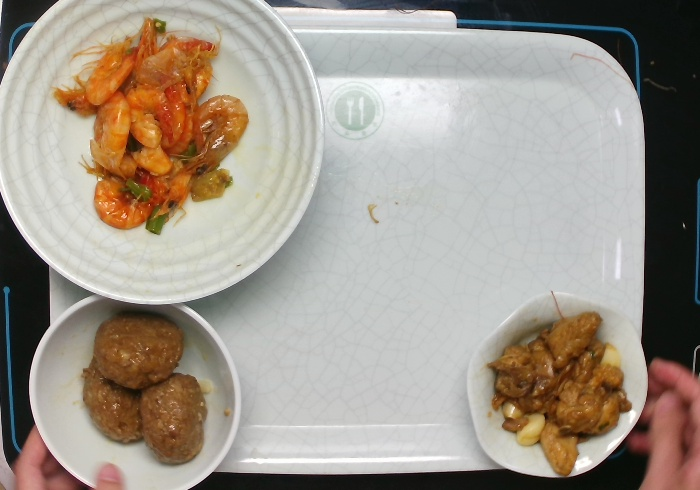JYsf-Da_Tang_Wan: (1, 1, 326, 306)
JYsf-Fan_Wan: (27, 288, 245, 490)
WCQzf-Hua_Duo_Wan: (464, 288, 652, 480)
